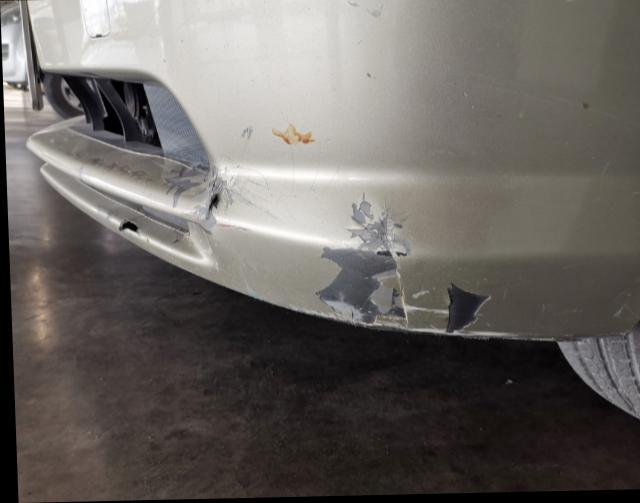crack: (117, 221, 138, 234)
scratch: (298, 197, 551, 344), (163, 158, 276, 225)
